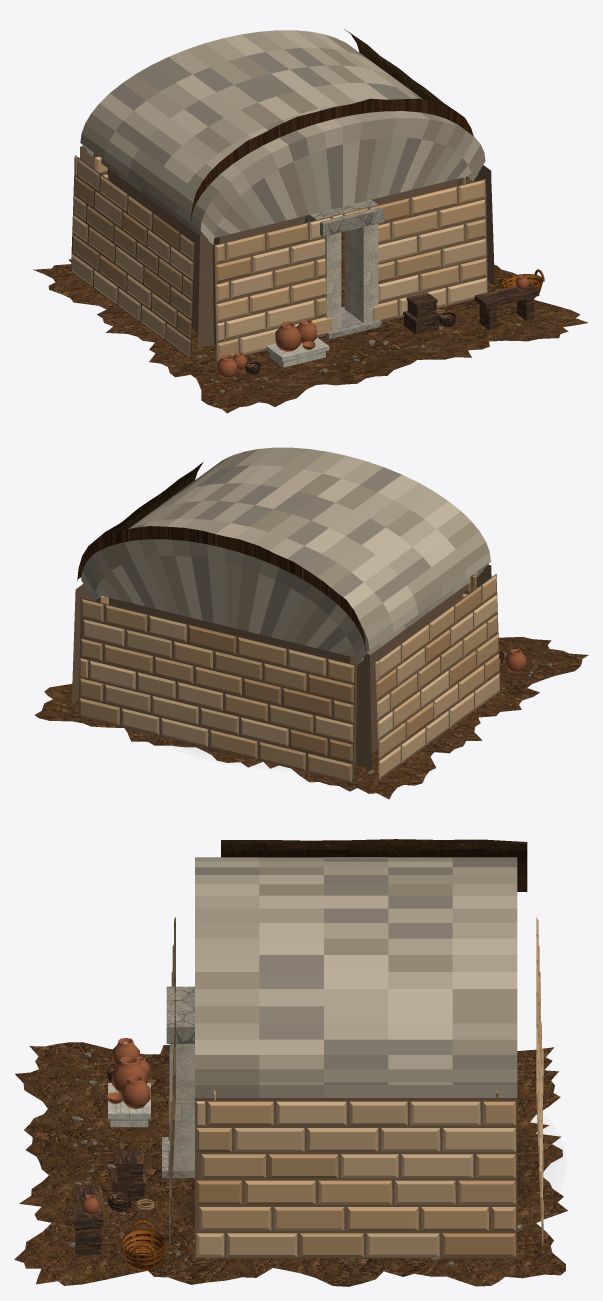
Rendered from cellar.glb.
3 views of the same model, one above another, from view 1: azimuth 30°, elevation 25°; view 2: azimuth 150°, elevation 25°; view 3: azimuth 270°, elevation 25° (orthographic). The views are drawn at different scales.
Visible parts, largest first — view 1: part_8, part_4, part_1, part_9, part_5, part_10, part_12, part_6, part_18, part_7, part_0; view 2: part_4, part_8, part_1, part_9; view 3: part_8, part_4, part_1, part_9, part_10, part_5, part_12, part_20, part_6, part_3, part_18, part_2.
Part boxes in pixels (bbox=[...]): part_8: bbox=[80, 30, 485, 244]; part_4: bbox=[71, 146, 494, 362]; part_1: bbox=[33, 259, 588, 413]; part_9: bbox=[190, 29, 473, 223]; part_5: bbox=[324, 223, 378, 330]; part_10: bbox=[403, 283, 539, 334]; part_12: bbox=[217, 275, 528, 378]; part_6: bbox=[305, 200, 384, 236]; part_18: bbox=[266, 337, 329, 367]; part_7: bbox=[325, 306, 381, 339]; part_0: bbox=[191, 232, 344, 354]; part_4: bbox=[71, 564, 500, 783]; part_8: bbox=[81, 447, 490, 664]; part_1: bbox=[34, 637, 588, 799]; part_9: bbox=[77, 462, 365, 650]; part_8: bbox=[195, 857, 517, 1097]; part_4: bbox=[168, 917, 543, 1258]; part_1: bbox=[14, 1042, 567, 1286]; part_9: bbox=[221, 839, 527, 891]; part_10: bbox=[73, 1150, 145, 1254]; part_5: bbox=[169, 1044, 194, 1171]; part_12: bbox=[81, 1038, 150, 1215]; part_20: bbox=[121, 1220, 165, 1271]; part_6: bbox=[166, 986, 194, 1043]; part_3: bbox=[182, 1120, 529, 1228]; part_18: bbox=[108, 1083, 150, 1127]; part_2: bbox=[54, 1052, 522, 1266].
Size of the model in its own units: 5.85 by 3.16 by 5.77.
21 materials, 13 textured.
